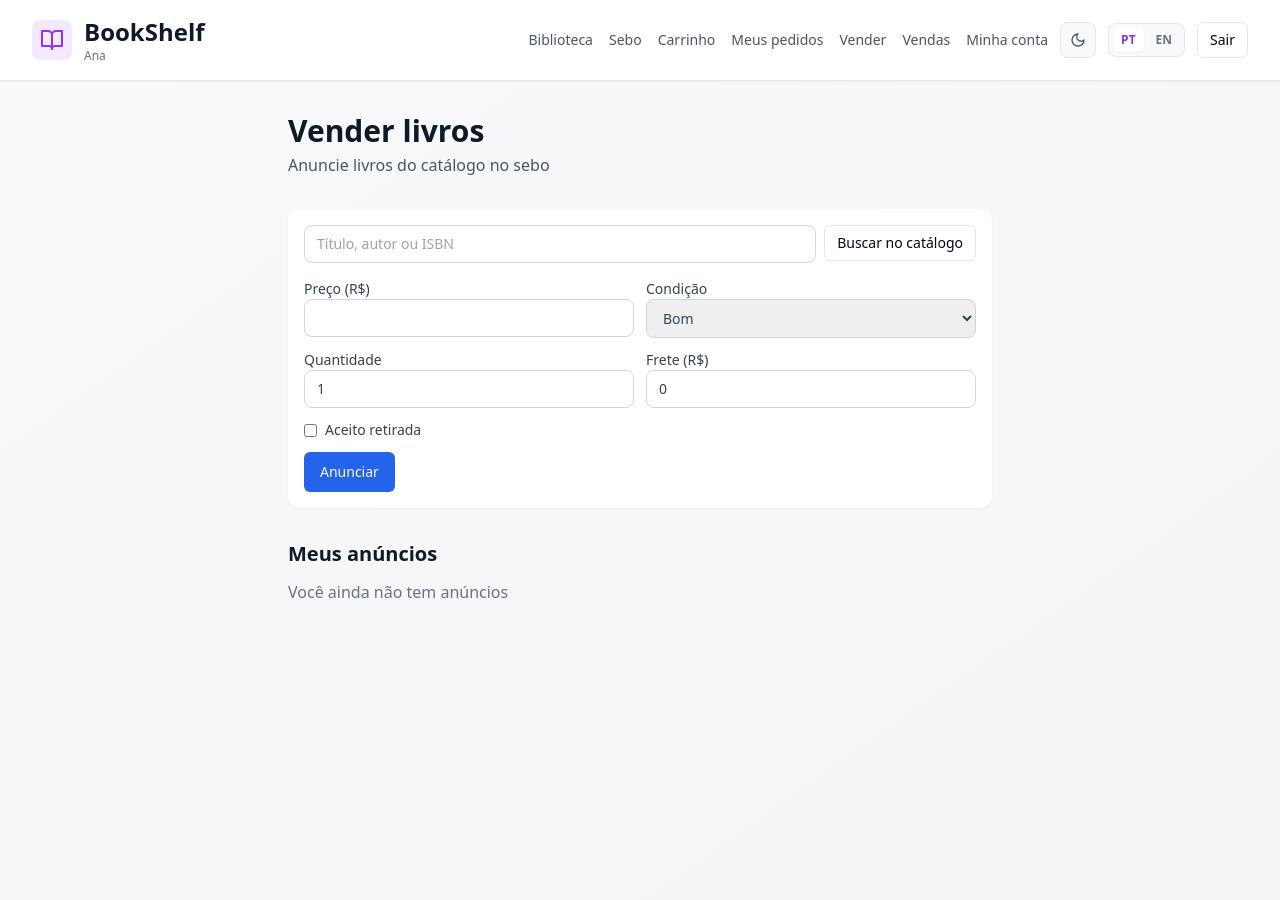
Test: SellPage › needs a book and a valid price
The width and height of the screenshot is (1280, 900).
Expected: the text "Você ainda não tem anúncios" is shown, x1=288 y1=581 x2=508 y2=603
Click the button with test id "publish-listing-button".
click(349, 472)  # box x1=304 y1=452 x2=395 y2=492
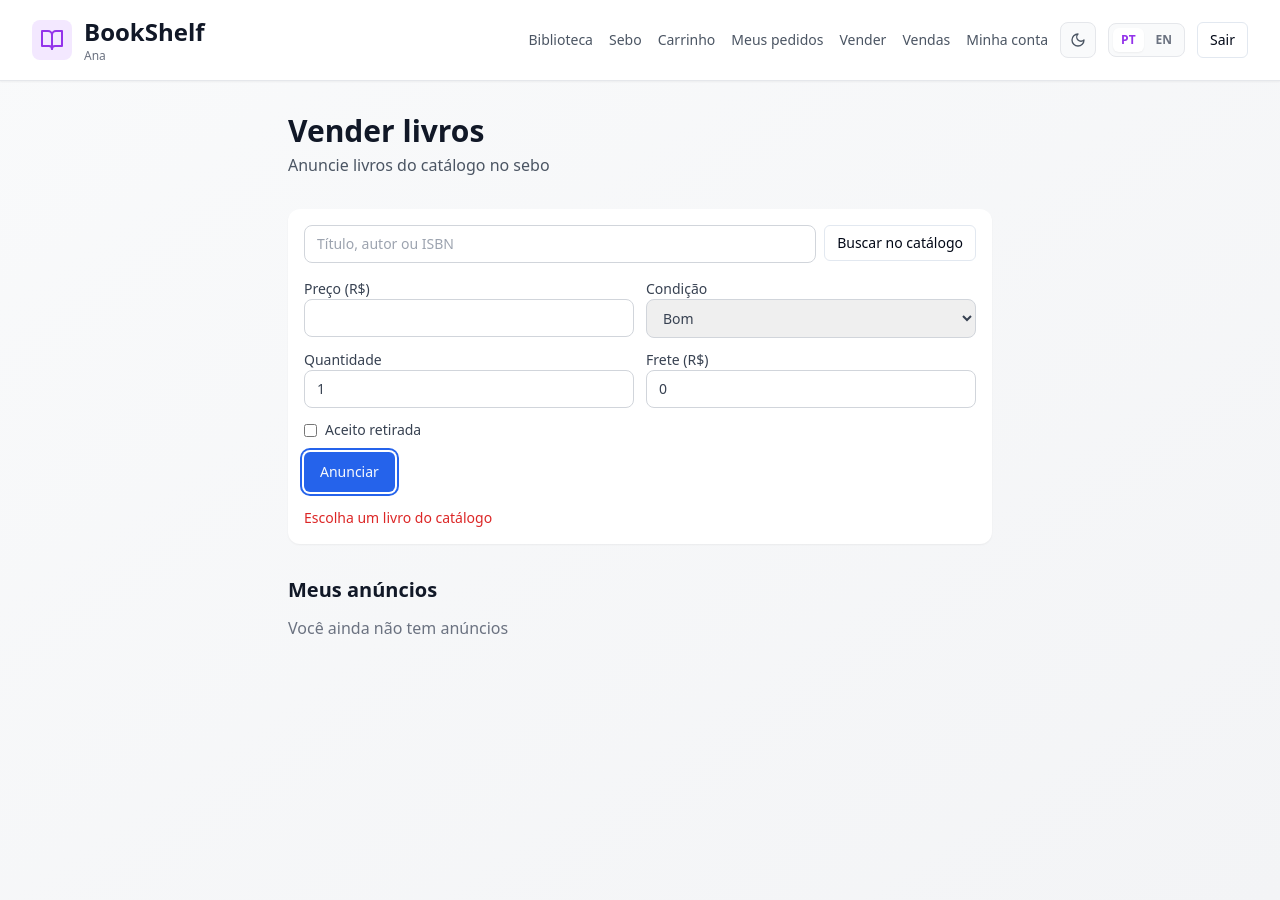
Now the message with test id "sell-error" shows "Escolha um livro", box x1=304 y1=508 x2=492 y2=527
Type "clean" into the field with test id "catalog-search-input".
click(560, 244); type("clean")  # box x1=304 y1=225 x2=816 y2=263
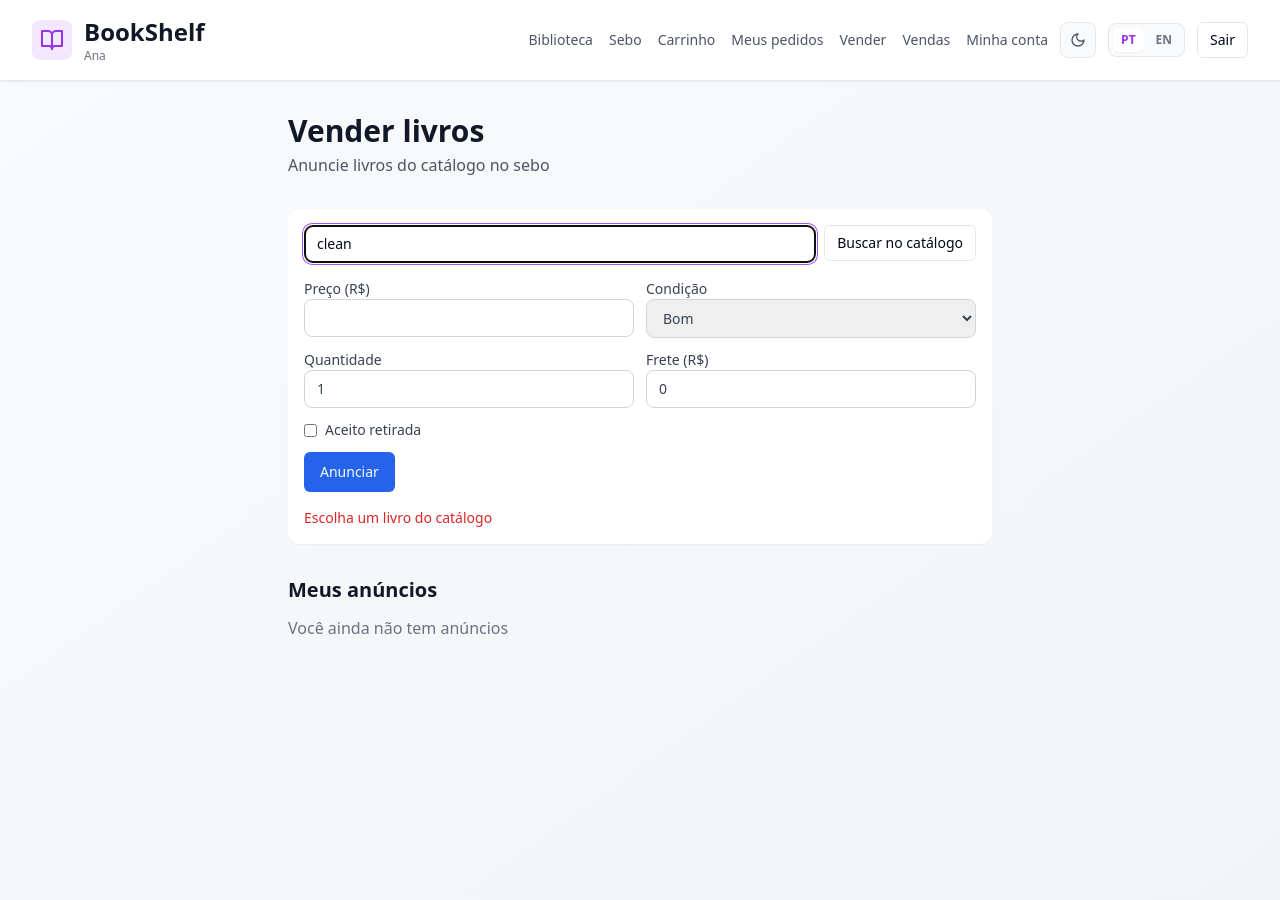
Click the button with test id "catalog-search-button".
click(900, 243)  # box x1=824 y1=225 x2=976 y2=261
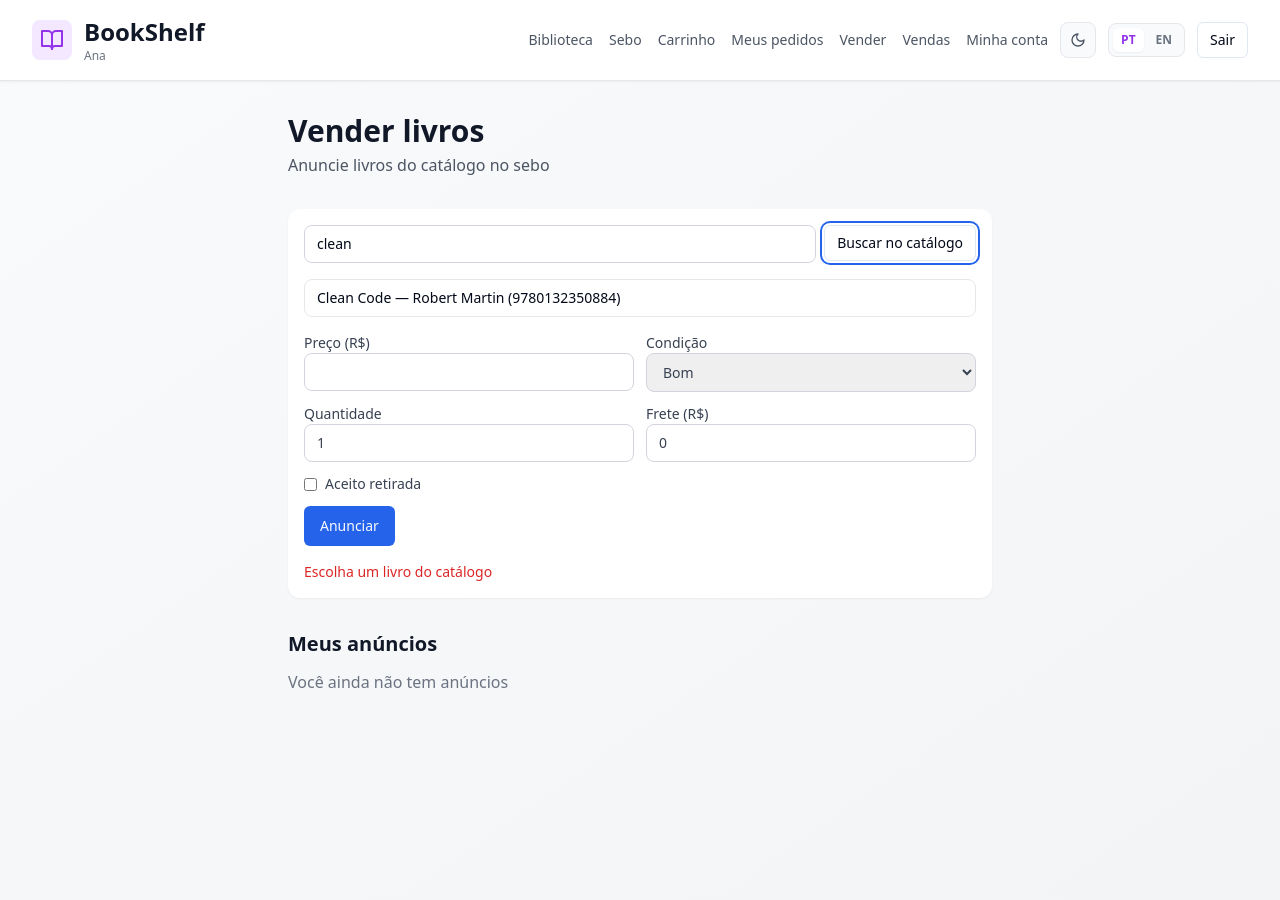
Click the button with test id "catalog-result-cb1".
click(354, 298)  # box x1=305 y1=280 x2=975 y2=316
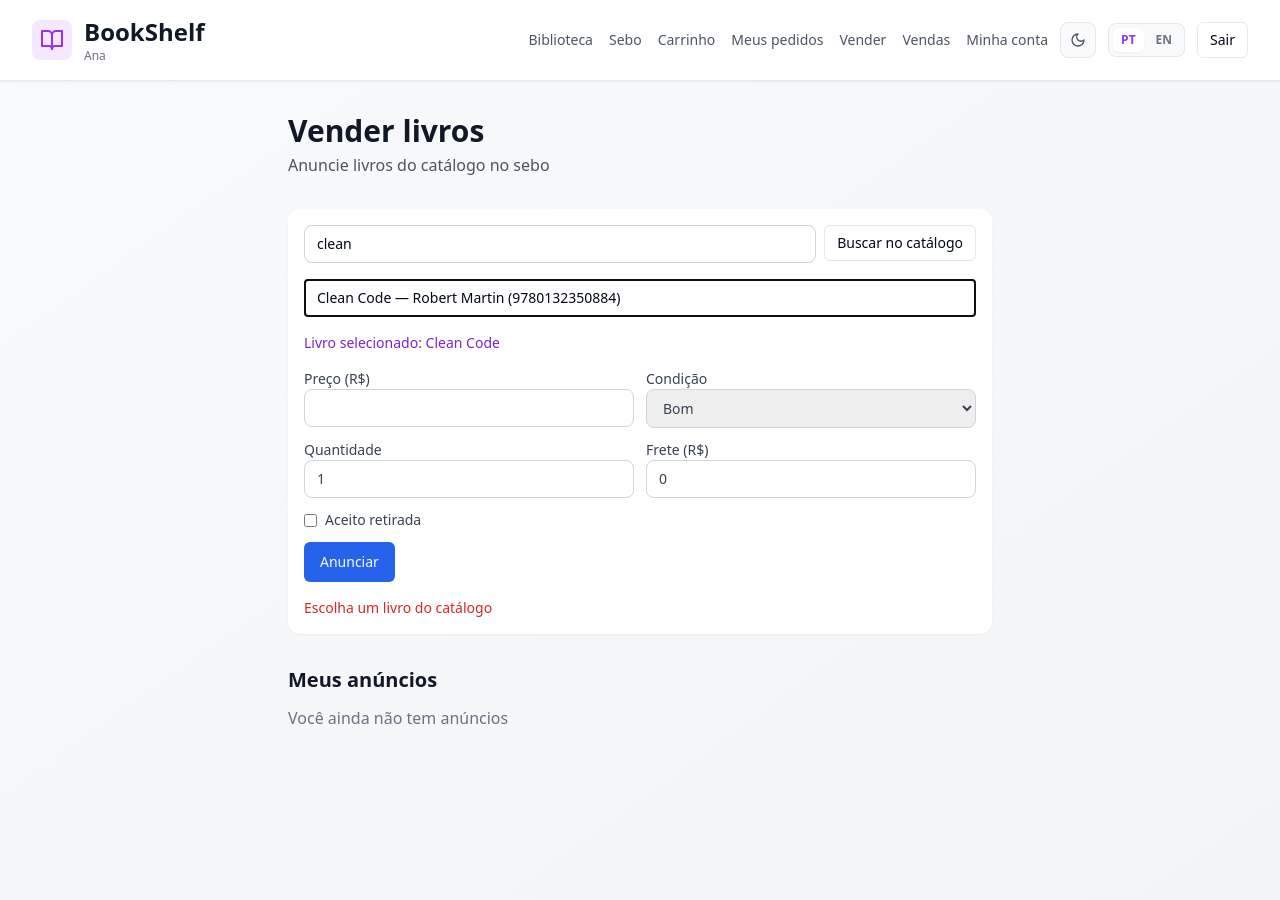
Type "0,50" into the field with test id "listing-price-input".
click(469, 408); type("0,50")  # box x1=304 y1=389 x2=634 y2=427
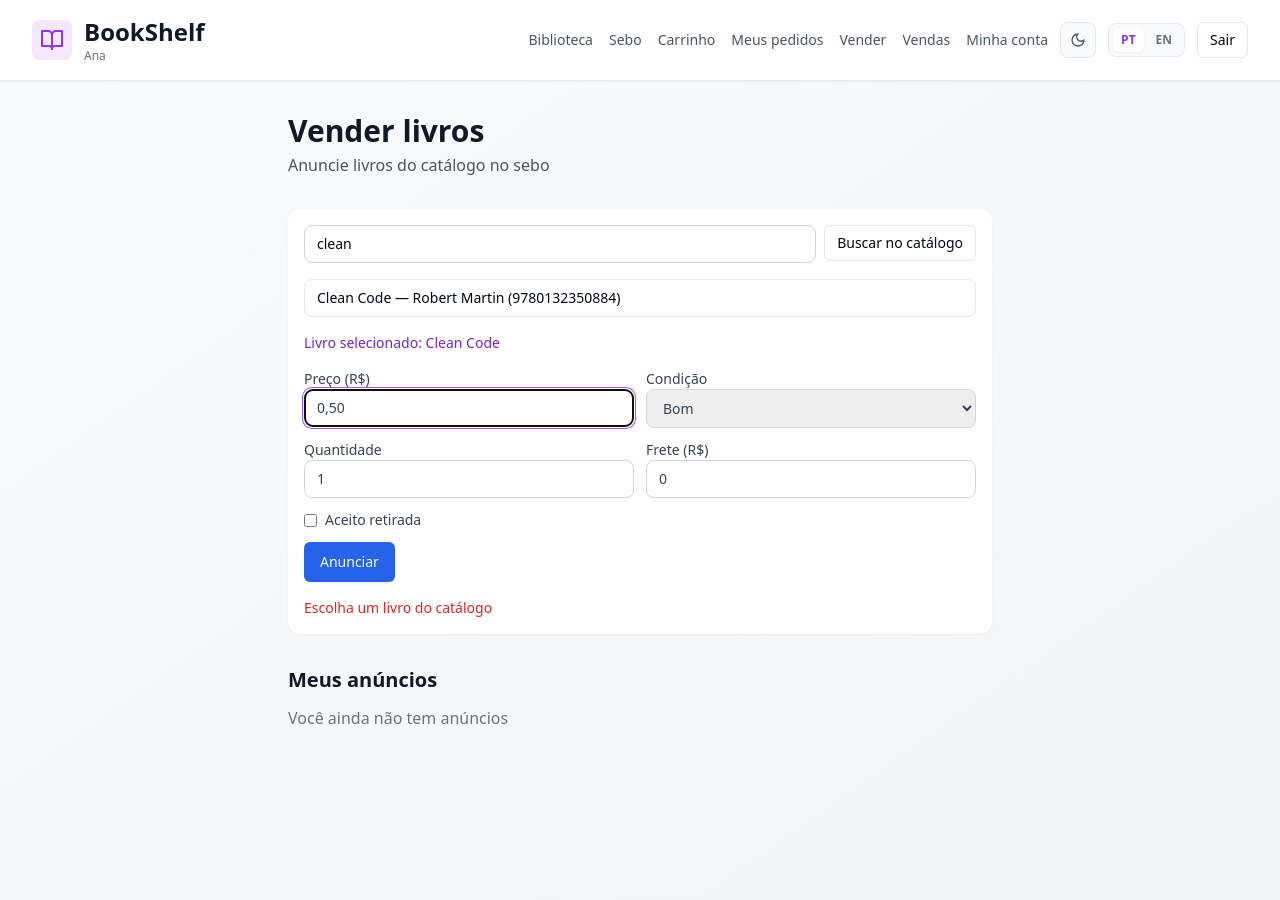
Click the button with test id "publish-listing-button".
click(349, 562)  # box x1=304 y1=542 x2=395 y2=582
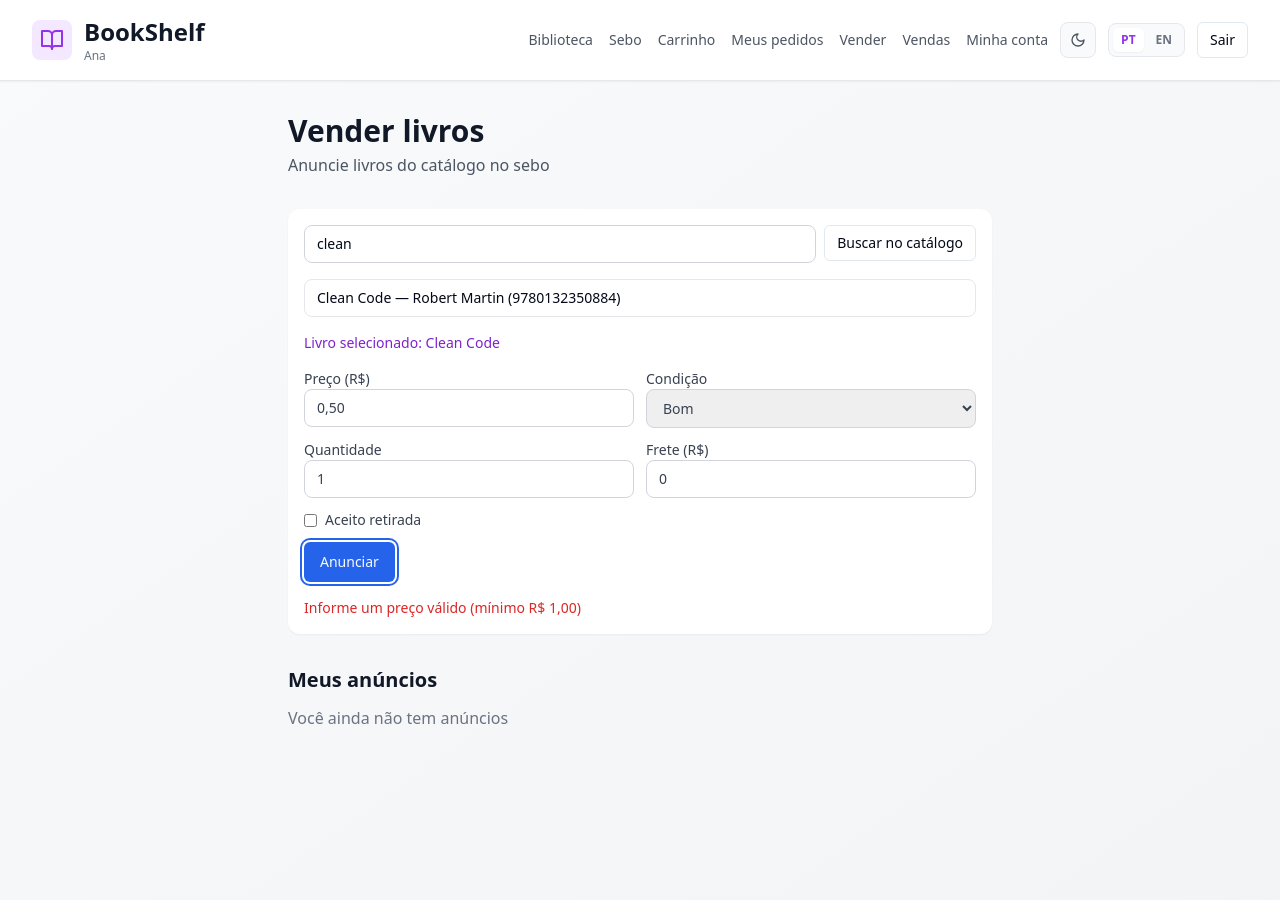
Now the message with test id "sell-error" shows "preço válido", box x1=304 y1=598 x2=581 y2=617
